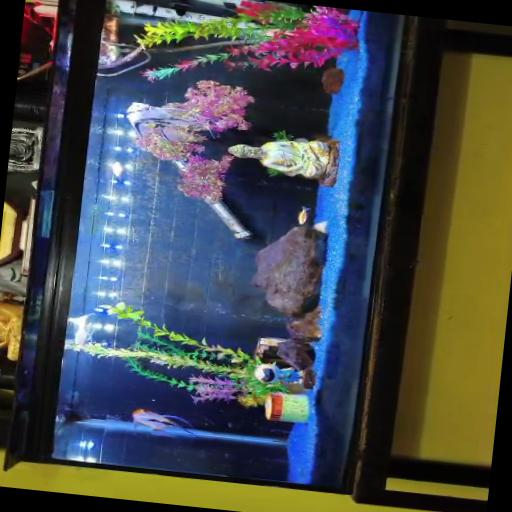Fish: (127, 101, 205, 140), (132, 409, 197, 436), (69, 313, 93, 344), (298, 206, 310, 224), (111, 162, 124, 175)
